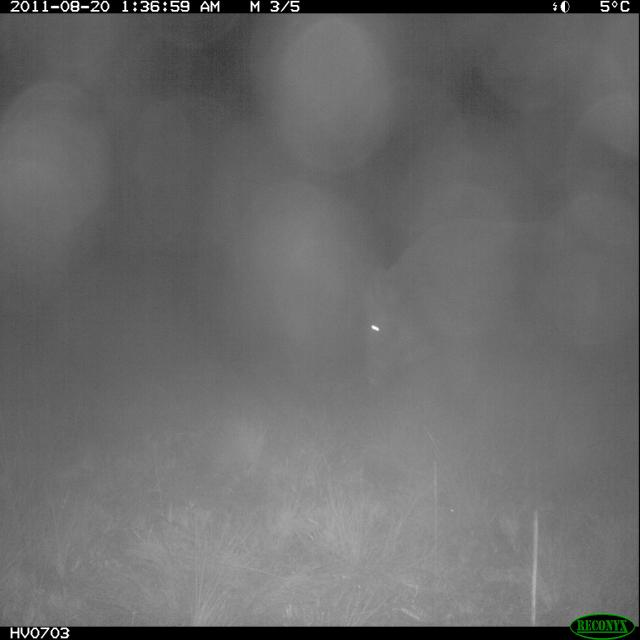boar: (353, 174, 640, 392)
